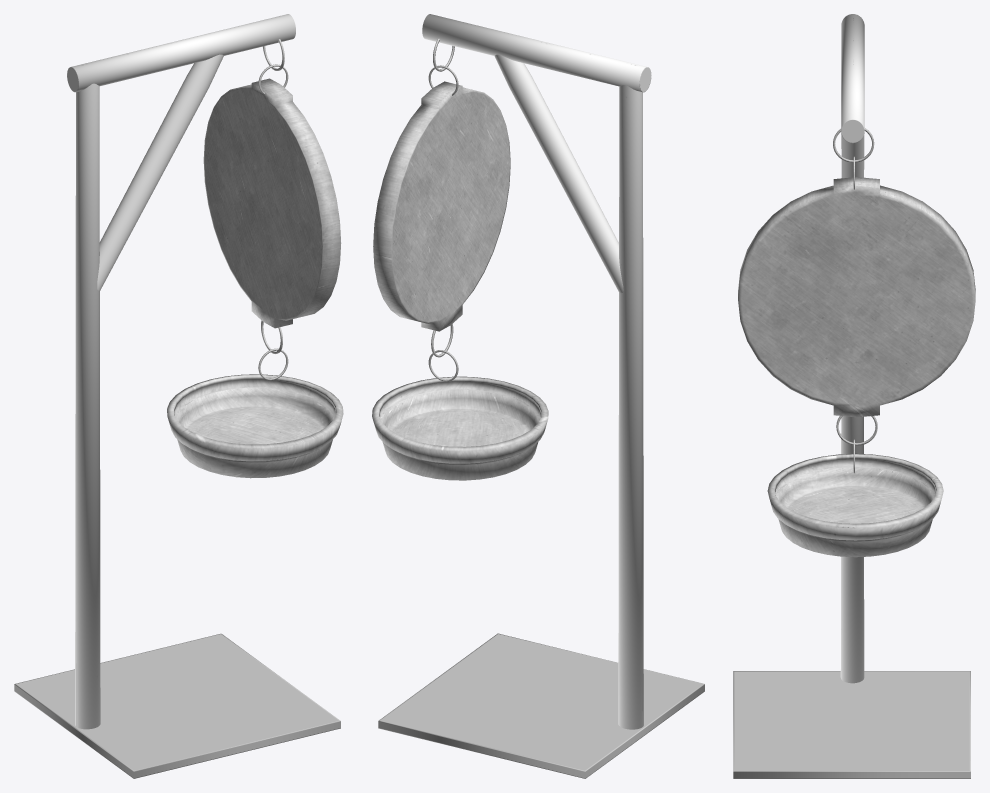
Rendered from Scales.fbx.
3 views of the same model, side by side, from view 1: azimuth 30°, elevation 25°; view 2: azimuth 150°, elevation 25°; view 3: azimuth 270°, elevation 25° (orthographic).
Visible parts, largest first — view 1: Scale_Pole_SM, Scale_Clock_SM, Scale_Floor_SM, Weight_Bowl_SM, Support_Rings_SM.001; view 2: Scale_Pole_SM, Scale_Clock_SM, Scale_Floor_SM, Weight_Bowl_SM, Support_Rings_SM.001; view 3: Scale_Clock_SM, Scale_Floor_SM, Weight_Bowl_SM, Scale_Pole_SM, Support_Rings_SM.001.
Boxes of the visible parts, x1=… form: Scale_Pole_SM: x1=67, y1=14, x2=295, y2=729; Scale_Clock_SM: x1=203, y1=78, x2=341, y2=328; Scale_Floor_SM: x1=14, y1=633, x2=340, y2=778; Weight_Bowl_SM: x1=167, y1=374, x2=343, y2=478; Support_Rings_SM.001: x1=258, y1=39, x2=288, y2=380; Scale_Pole_SM: x1=422, y1=14, x2=651, y2=729; Scale_Clock_SM: x1=373, y1=81, x2=510, y2=331; Scale_Floor_SM: x1=378, y1=633, x2=704, y2=778; Weight_Bowl_SM: x1=372, y1=376, x2=548, y2=480; Support_Rings_SM.001: x1=428, y1=38, x2=458, y2=381; Scale_Clock_SM: x1=738, y1=177, x2=975, y2=417; Scale_Floor_SM: x1=733, y1=671, x2=970, y2=778; Weight_Bowl_SM: x1=767, y1=453, x2=943, y2=557; Scale_Pole_SM: x1=840, y1=14, x2=864, y2=683; Support_Rings_SM.001: x1=833, y1=128, x2=877, y2=473.
Size of the model in its own units: 76.68 by 188 by 62.19.
Materials: 5 (5 with a texture image).
